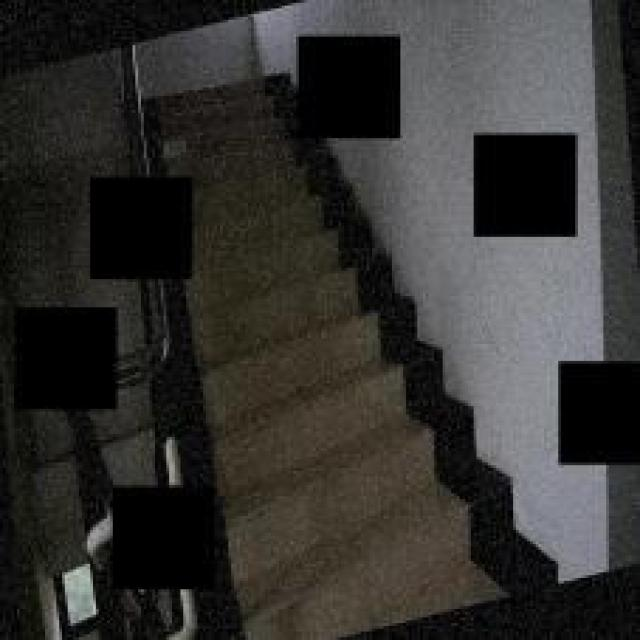upstair: (165, 308, 497, 486)
